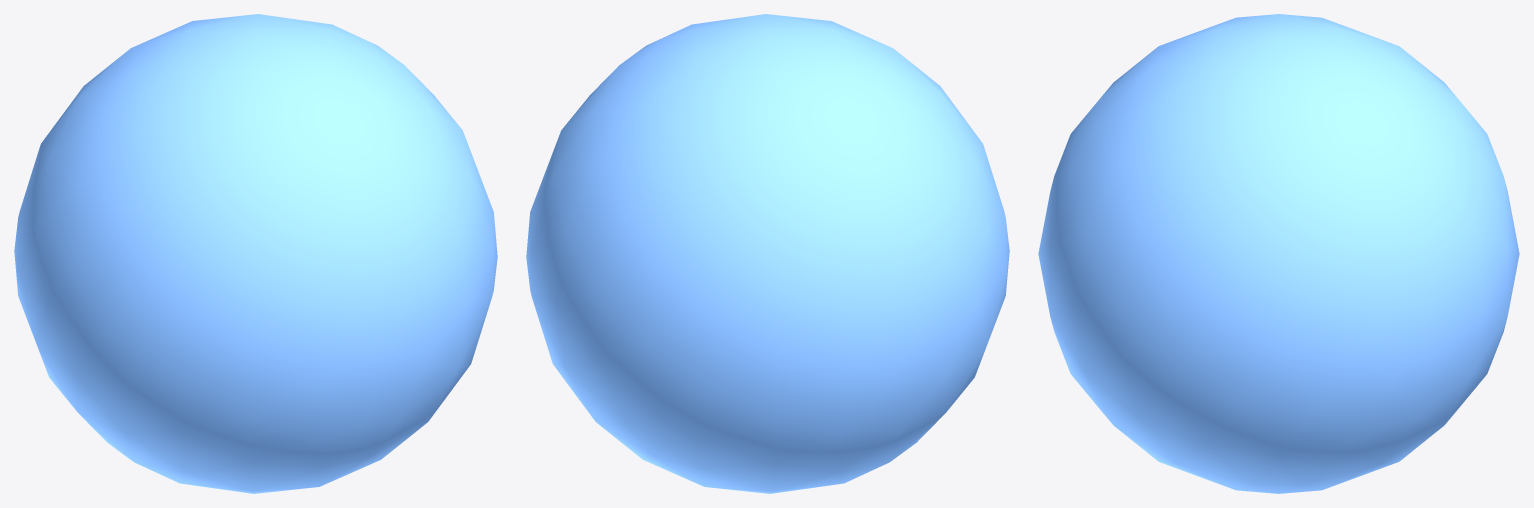
3 renders of one model, left to right at view 1: azimuth 30°, elevation 25°; view 2: azimuth 150°, elevation 25°; view 3: azimuth 270°, elevation 25°, orthographic.
Visible parts, largest first — view 1: Icosahedron; view 2: Icosahedron; view 3: Icosahedron.
Boxes of the visible parts, x1,y1,x2,y2 form: Icosahedron: (14,14,497,493); Icosahedron: (526,14,1009,493); Icosahedron: (1038,14,1519,493).
Size of the model in its own units: 2 by 2 by 2.
